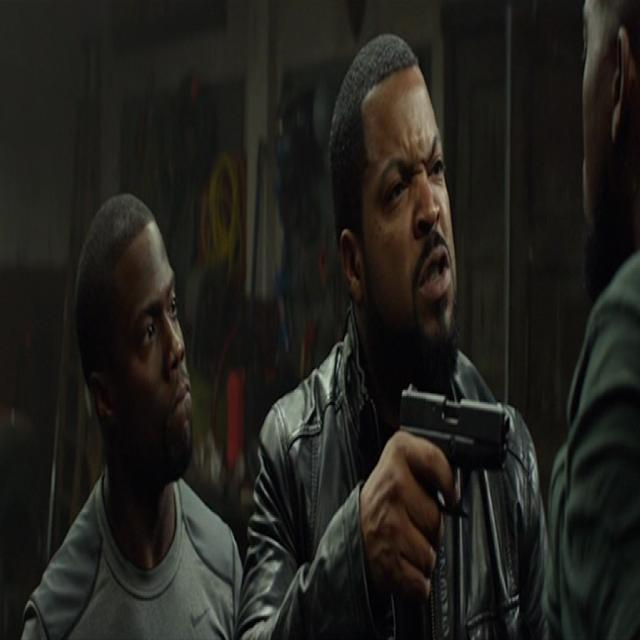gun-knife-thesis - v11 Yolov5 augmented: (391, 372, 514, 600)
